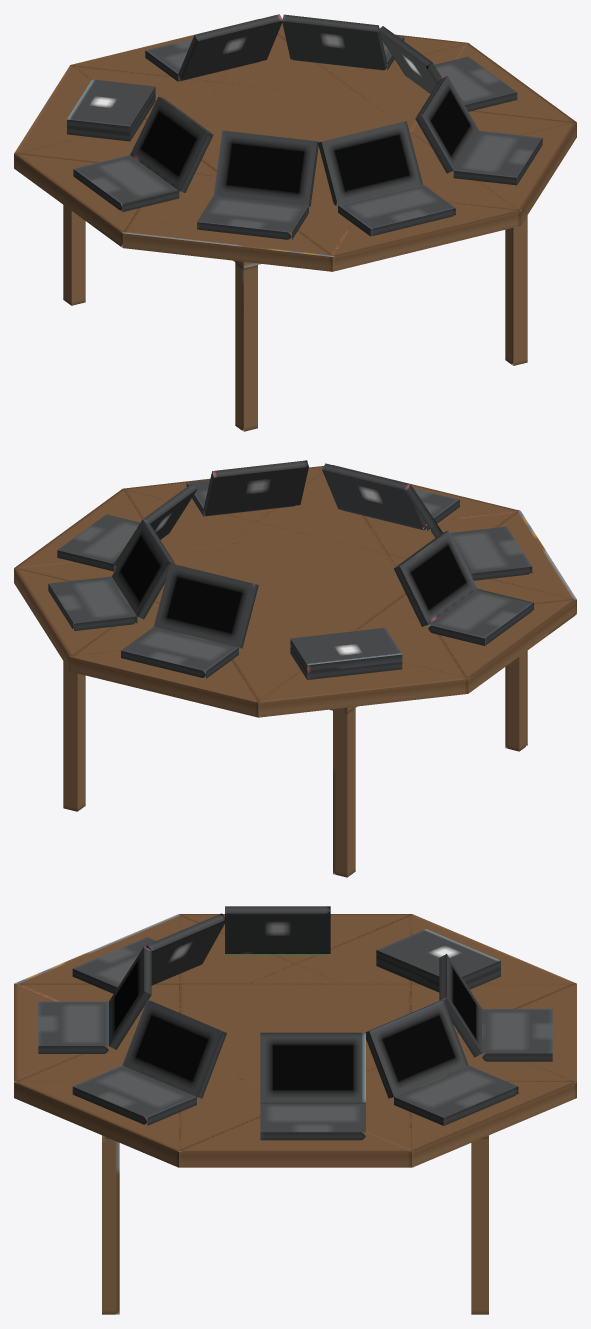
File: stol_2.fbx
The picture shows the model from 3 angles, top to bottom: view 1: azimuth 30°, elevation 25°; view 2: azimuth 150°, elevation 25°; view 3: azimuth 270°, elevation 25°; orthographic projection. The views are drawn at different scales.
Parts seen in each view (by area): view 1: octagon, cube_23, cube_21, cube_9, cube_15, cube_13, cube_7, cube_20, cube_22, cube_8, cube_18, cube_11 (+7 smaller); view 2: octagon, cube_13, cube_9, cube_19, cube_21, cube_4, cube_12, cube_11, cube_8, cube_14, cube_15, cube_5 (+8 smaller); view 3: octagon, cube_17, cube_19, cube_15, cube_9, cube_14, cube_18, cube_16, cube_12, cube_20, cube_11, cube_5 (+6 smaller).
Boxes of the visible parts, bbox=[...] form: octagon: bbox=[14, 19, 576, 271]; cube_23: bbox=[214, 130, 318, 206]; cube_21: bbox=[318, 121, 422, 205]; cube_9: bbox=[130, 96, 213, 192]; cube_15: bbox=[282, 14, 387, 69]; cube_13: bbox=[178, 14, 282, 80]; cube_7: bbox=[235, 262, 257, 431]; cube_20: bbox=[338, 184, 455, 236]; cube_22: bbox=[197, 195, 308, 239]; cube_8: bbox=[73, 155, 179, 212]; cube_18: bbox=[453, 130, 542, 185]; cube_11: bbox=[67, 79, 155, 133]; octagon: bbox=[14, 465, 576, 717]; cube_13: bbox=[154, 563, 258, 648]; cube_9: bbox=[393, 530, 477, 626]; cube_19: bbox=[203, 460, 308, 515]; cube_21: bbox=[322, 463, 426, 529]; cube_4: bbox=[333, 708, 355, 877]; cube_12: bbox=[121, 627, 238, 678]; cube_11: bbox=[290, 627, 402, 672]; cube_8: bbox=[428, 589, 533, 645]; cube_14: bbox=[48, 576, 137, 630]; cube_15: bbox=[112, 521, 175, 619]; cube_5: bbox=[63, 661, 85, 811]; octagon: bbox=[14, 914, 576, 1167]; cube_17: bbox=[260, 1032, 365, 1102]; cube_19: bbox=[122, 1000, 226, 1098]; cube_15: bbox=[365, 1000, 468, 1098]; cube_9: bbox=[225, 906, 330, 953]; cube_14: bbox=[394, 1065, 518, 1125]; cube_18: bbox=[72, 1065, 196, 1125]; cube_16: bbox=[260, 1102, 365, 1140]; cube_12: bbox=[482, 1009, 552, 1061]; cube_20: bbox=[38, 1001, 108, 1053]; cube_11: bbox=[376, 929, 500, 984]; cube_5: bbox=[471, 1139, 488, 1314].
Bounding box in the file's own units: 200 × 106 × 200.
Materials: 2 (2 with a texture image).
